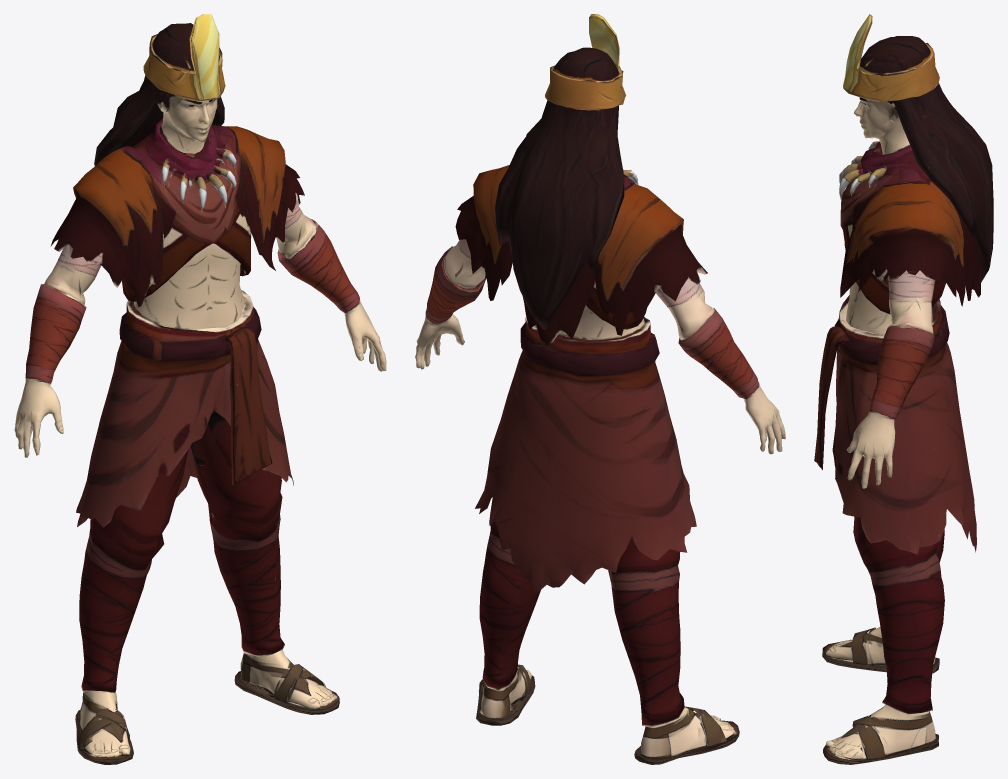
The model's file is son_tinh_mesh.fbx.
The picture shows the model from 3 angles, left to right: view 1: azimuth 30°, elevation 25°; view 2: azimuth 150°, elevation 25°; view 3: azimuth 270°, elevation 25°; orthographic projection. The views are drawn at different scales.
Visible parts, largest first — view 1: Mesh_0; view 2: Mesh_0; view 3: Mesh_0.
Boxes of the visible parts, x1=… form: Mesh_0: x1=14, y1=14, x2=386, y2=764; Mesh_0: x1=415, y1=14, x2=785, y2=764; Mesh_0: x1=814, y1=14, x2=993, y2=764.
Size of the model in its own units: 53.12 by 100 by 23.54.
Materials: 1 (1 with a texture image).
